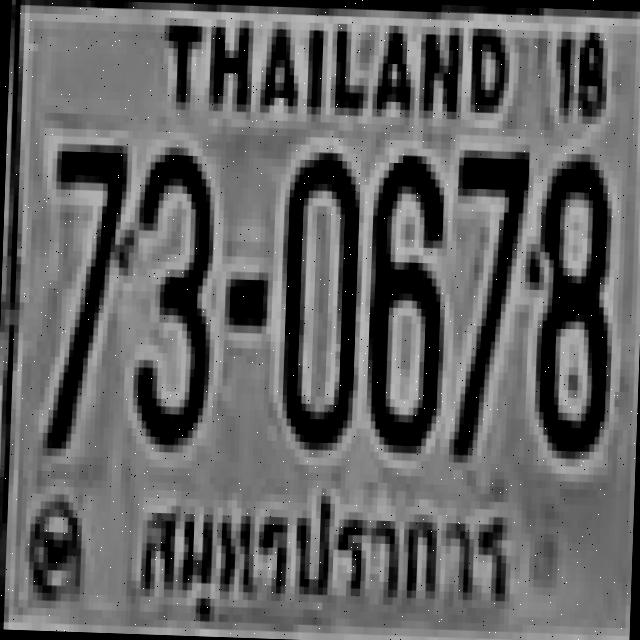0: (276, 144, 361, 443)
3: (126, 142, 212, 441)
6: (360, 147, 446, 446)
7: (444, 142, 525, 456), (43, 135, 124, 442), (447, 142, 525, 372), (46, 135, 123, 351)
8: (528, 148, 614, 448)
SamutPrakan: (134, 479, 516, 637)
